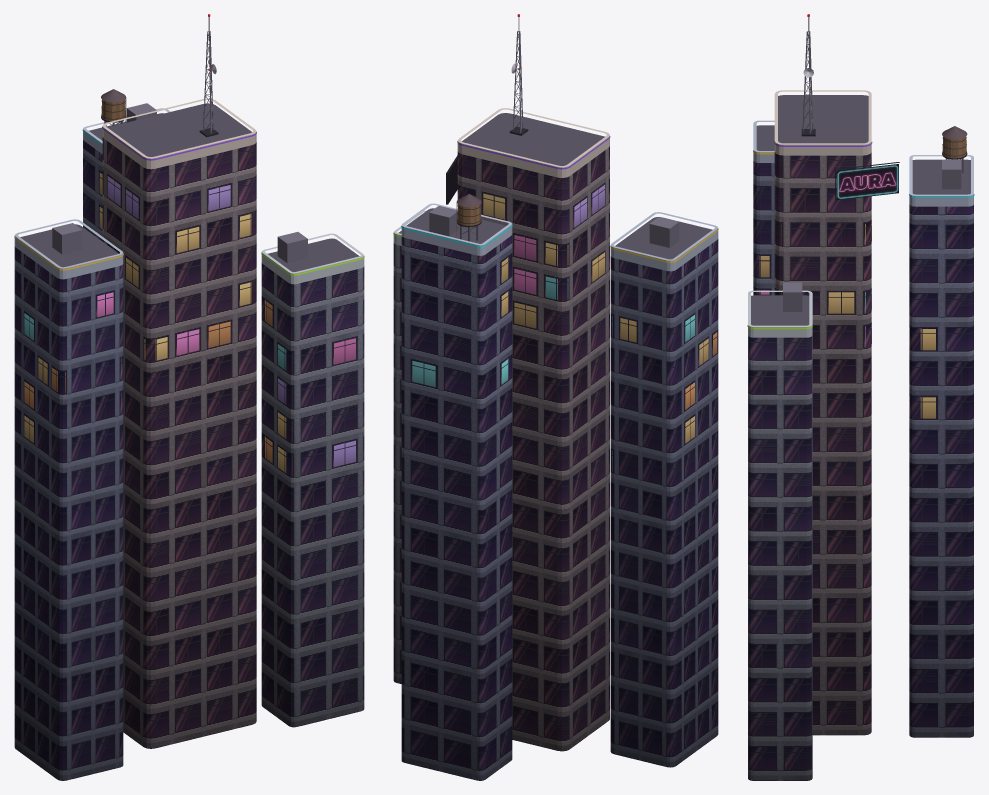
The model's file is skyline_2.glb.
3 renders of one model, left to right at view 1: azimuth 30°, elevation 25°; view 2: azimuth 150°, elevation 25°; view 3: azimuth 270°, elevation 25°, orthographic.
Visible parts, largest first — view 1: Island, Lit_Windows; view 2: Island, Lit_Windows; view 3: Island, Lit_Signs, Lit_Windows.
Part boxes in pixels (<box>): Island: <box>14,17,364,780</box>; Lit_Windows: <box>24,172,355,475</box>; Island: <box>393,17,718,780</box>; Lit_Windows: <box>412,185,717,471</box>; Island: <box>748,17,973,780</box>; Lit_Signs: <box>836,164,898,199</box>; Lit_Windows: <box>753,220,935,418</box>.
Bounding box in the file's own units: 32.58 × 72.17 × 21.08.
9 materials, 2 textured.
